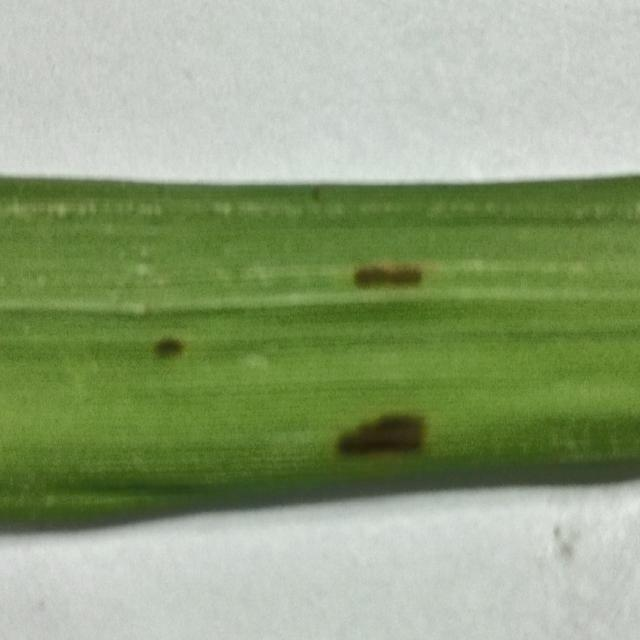Leafsmut: (337, 414, 425, 454), (354, 263, 422, 287), (154, 337, 184, 357)
